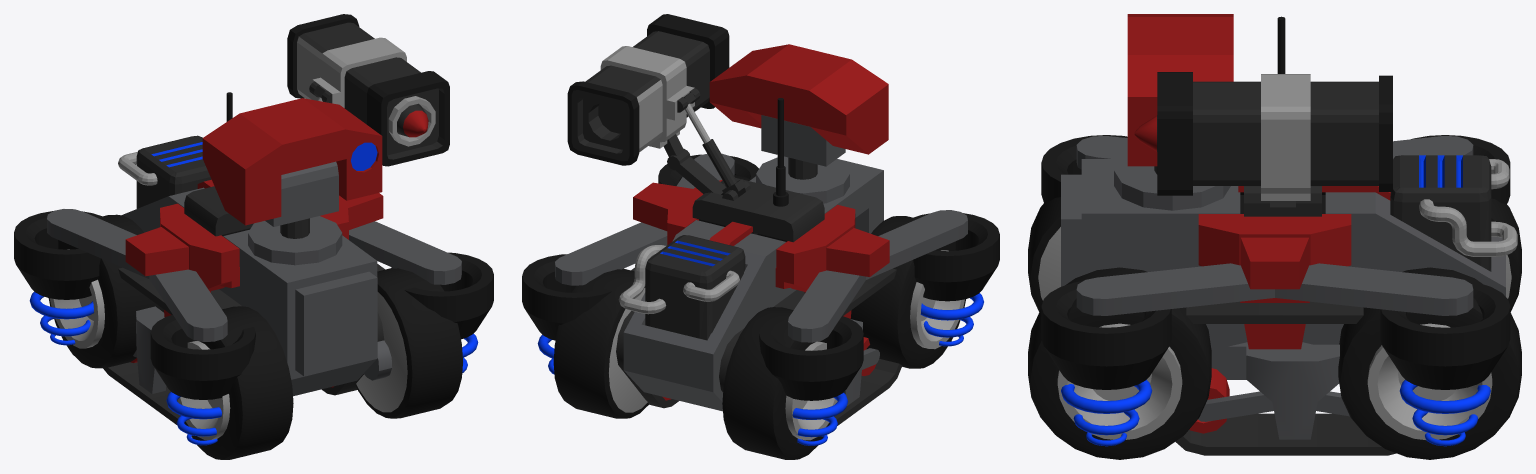
The model's file is charlie 1.FBX.
3 views of the same model, side by side, from view 1: azimuth 30°, elevation 25°; view 2: azimuth 150°, elevation 25°; view 3: azimuth 270°, elevation 25° (orthographic). The views are drawn at different scales.
Parts seen in each view (by area): view 1: Charlie, HoverThrusters, Wheels, Weapon, Tracks, SpeedBoost, Hacking Antenna, Projectile; view 2: Charlie, HoverThrusters, Wheels, Weapon, SpeedBoost, Tracks, Hacking Antenna; view 3: HoverThrusters, Wheels, Charlie, Weapon, Tracks, SpeedBoost, Projectile, Hacking Antenna.
Boxes of the visible parts, x1,y1,x2,y2 form: Charlie: [122, 98, 382, 396]; HoverThrusters: [14, 193, 493, 445]; Wheels: [48, 200, 462, 459]; Weapon: [287, 14, 449, 166]; Tracks: [103, 264, 384, 424]; SpeedBoost: [118, 135, 211, 208]; Hacking Antenna: [184, 92, 253, 236]; Projectile: [397, 103, 428, 137]; Charlie: [623, 44, 888, 411]; HoverThrusters: [522, 153, 999, 445]; Wheels: [553, 175, 965, 459]; Weapon: [567, 14, 773, 225]; SpeedBoost: [618, 235, 745, 340]; Tracks: [616, 267, 901, 425]; Hacking Antenna: [743, 98, 824, 242]; HoverThrusters: [1041, 135, 1510, 446]; Wheels: [1028, 173, 1521, 459]; Charlie: [1061, 14, 1505, 379]; Weapon: [1157, 72, 1392, 216]; Tracks: [1175, 301, 1396, 455]; SpeedBoost: [1390, 155, 1517, 270]; Projectile: [1134, 115, 1157, 151]; Hacking Antenna: [1277, 16, 1285, 73].
Bounding box in the file's own units: 72.06 × 63.33 × 75.56.
